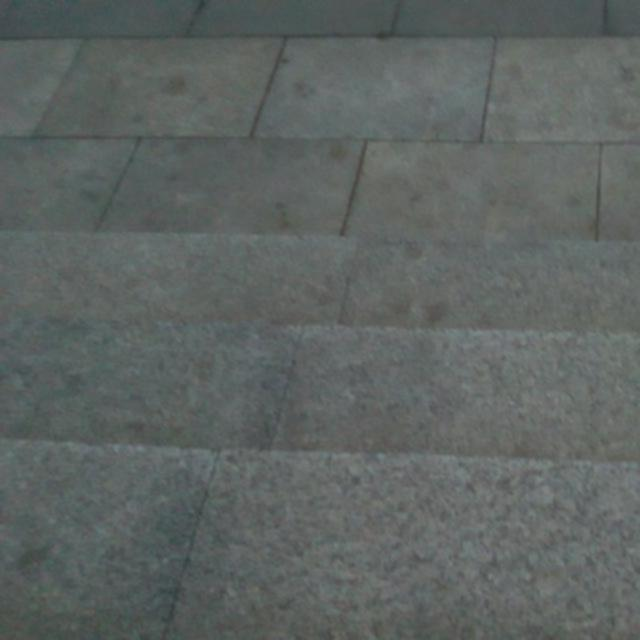stair: (0, 212, 615, 576)
